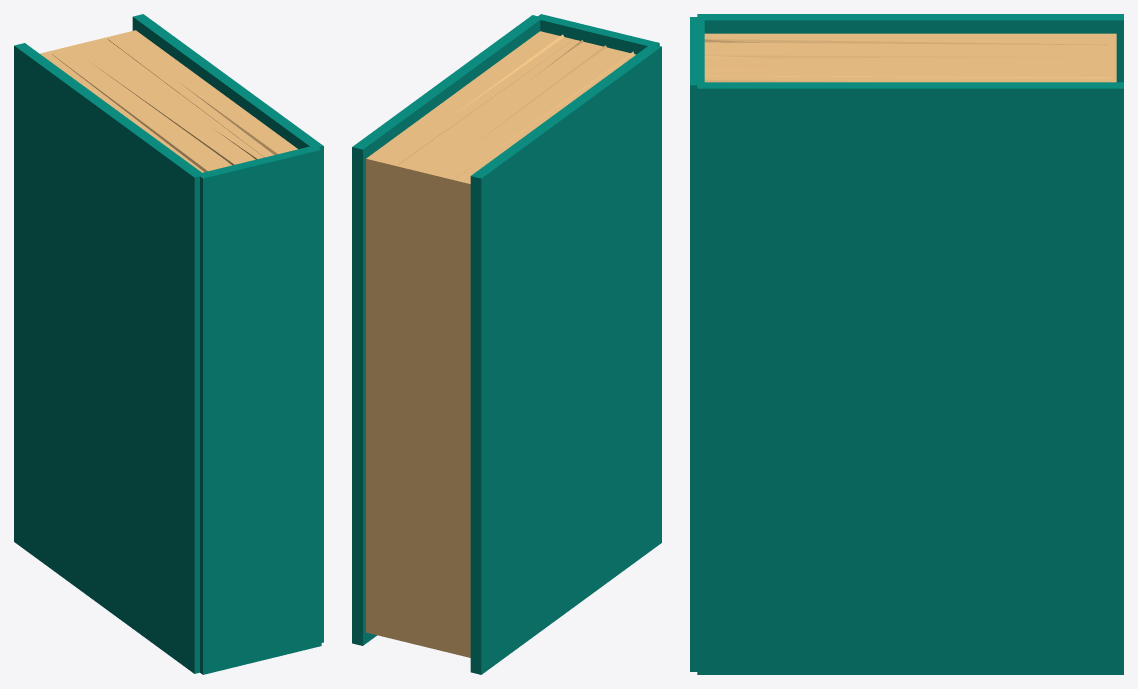
File: green-book-by-justin-randall-bWjFYZvWJy2.glb
The picture shows the model from 3 angles, left to right: view 1: azimuth 30°, elevation 25°; view 2: azimuth 150°, elevation 25°; view 3: azimuth 270°, elevation 25°; orthographic projection. The views are drawn at different scales.
Visible parts, largest first — view 1: group453196978, group764487084, group1732650196, group1485198180; view 2: group453196978, group1732650196, group1485198180, group764487084, group833298882; view 3: group1485198180, group1732650196, group453196978, group764487084, group833298882, group1151146375.
Boxes of the visible parts, bbox=[...] form: group453196978: bbox=[14, 43, 201, 673]; group764487084: bbox=[197, 145, 321, 674]; group1732650196: bbox=[40, 30, 297, 172]; group1485198180: bbox=[132, 14, 323, 642]; group453196978: bbox=[470, 45, 661, 674]; group1732650196: bbox=[366, 31, 635, 657]; group1485198180: bbox=[352, 15, 540, 645]; group764487084: bbox=[535, 14, 659, 54]; group833298882: bbox=[458, 51, 634, 176]; group1485198180: bbox=[697, 82, 1123, 674]; group1732650196: bbox=[704, 33, 1116, 82]; group453196978: bbox=[697, 14, 1123, 82]; group764487084: bbox=[690, 17, 704, 671]; group833298882: bbox=[704, 39, 1107, 45]; group1151146375: bbox=[704, 55, 1064, 58].
Bounding box in the file's own units: 0.12 × 0.44 × 0.295.
